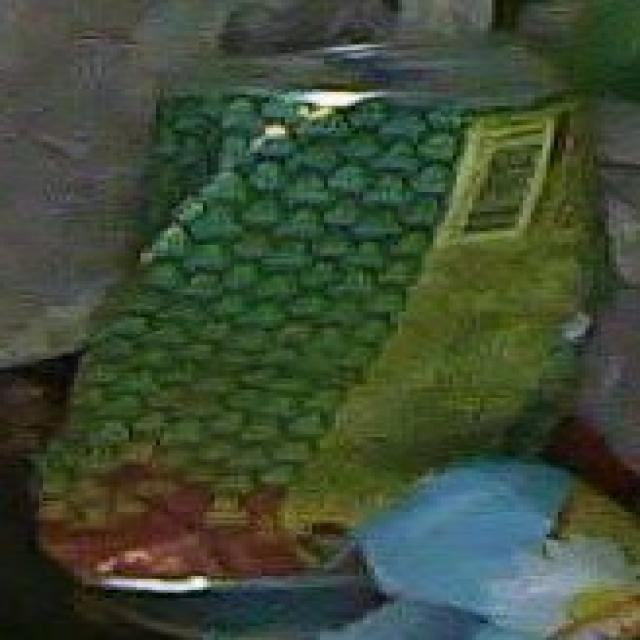litter: (51, 42, 609, 640)
